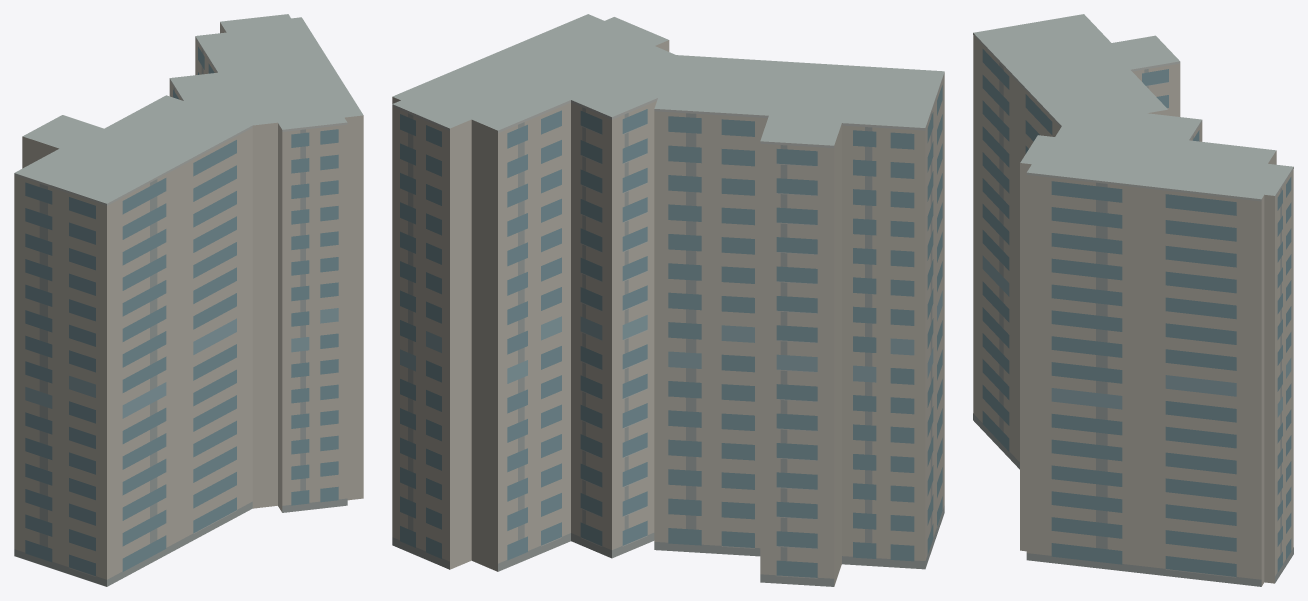
The model's file is residential-befea3ae-c1dd-49e9-9267-faf9c968c6e2.glb.
3 renders of one model, left to right at view 1: azimuth 30°, elevation 25°; view 2: azimuth 150°, elevation 25°; view 3: azimuth 270°, elevation 25°, orthographic. The views are drawn at different scales.
Visible parts, largest first — view 1: residential-befea3ae-c1dd-49e9-9267-faf9c968c6e2.tmp; view 2: residential-befea3ae-c1dd-49e9-9267-faf9c968c6e2.tmp; view 3: residential-befea3ae-c1dd-49e9-9267-faf9c968c6e2.tmp.
Part boxes in pixels (x1,y1,x2,y2): residential-befea3ae-c1dd-49e9-9267-faf9c968c6e2.tmp: (14, 14, 363, 586); residential-befea3ae-c1dd-49e9-9267-faf9c968c6e2.tmp: (392, 14, 944, 586); residential-befea3ae-c1dd-49e9-9267-faf9c968c6e2.tmp: (973, 14, 1293, 586).
Size of the model in its own units: 44.08 by 43 by 32.24.
